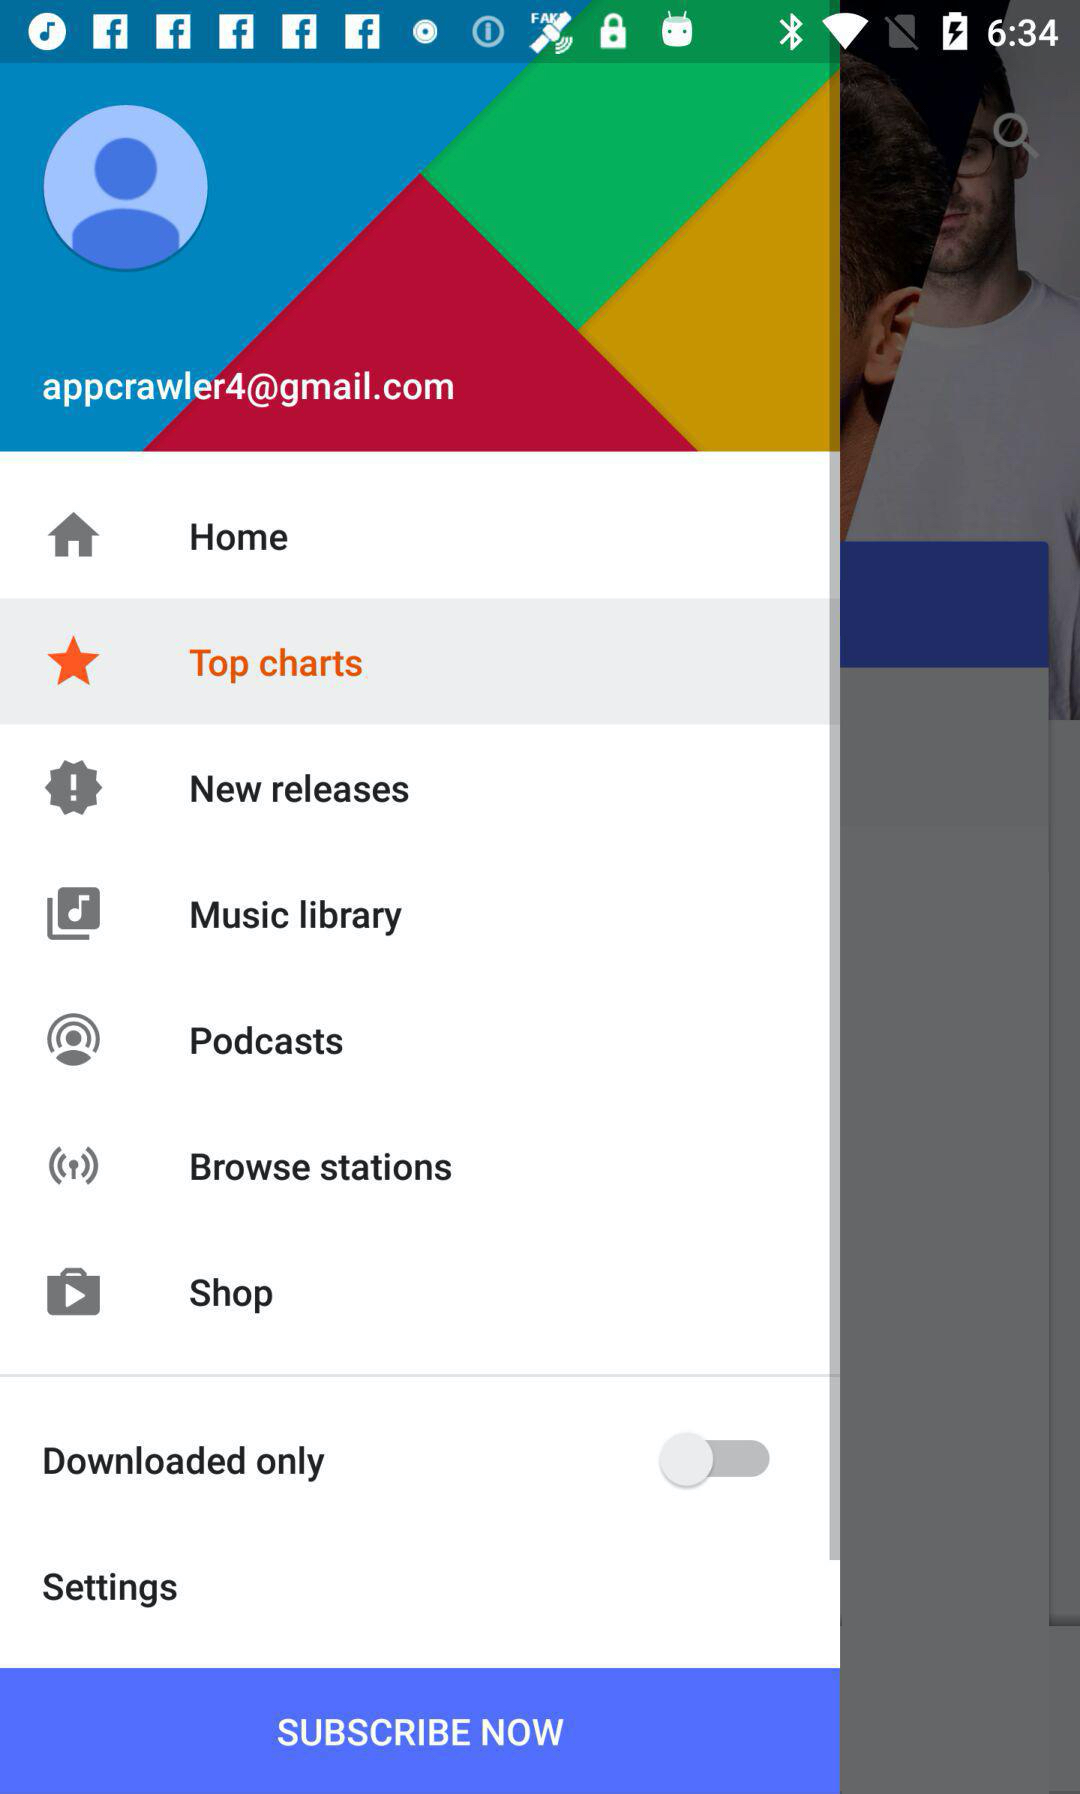Drawer: (1, 64, 840, 1794)
Icon: (44, 105, 210, 274), (45, 759, 104, 818), (47, 887, 102, 942), (47, 1014, 102, 1067), (47, 636, 102, 687), (47, 1267, 102, 1316), (47, 511, 102, 559), (994, 111, 1040, 161)
Image: (49, 1146, 100, 1187)
Switch: (657, 1430, 778, 1493)
Text: (44, 369, 456, 411), (44, 1445, 325, 1483), (191, 900, 404, 937), (191, 1152, 454, 1181), (190, 647, 364, 686), (191, 774, 410, 803), (44, 1572, 178, 1609), (191, 1025, 345, 1056), (190, 1278, 274, 1315), (191, 522, 290, 552)
TextButton: (1, 1668, 840, 1794)
UpperTaskBar: (1, 1, 1080, 64)
